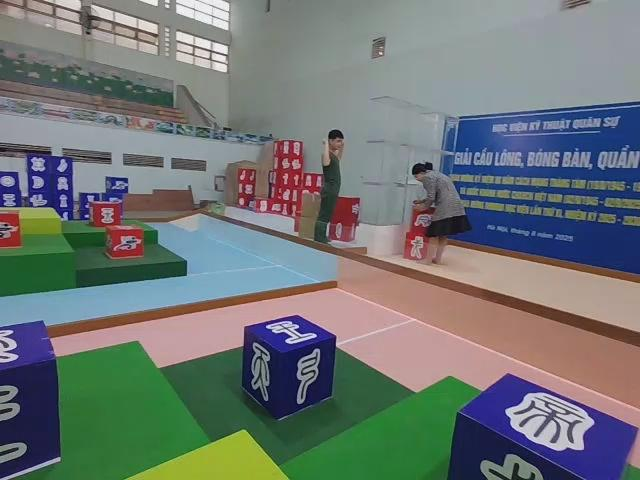R2 Fake Blue: (452, 375, 640, 480), (241, 317, 337, 423), (0, 324, 60, 480)
